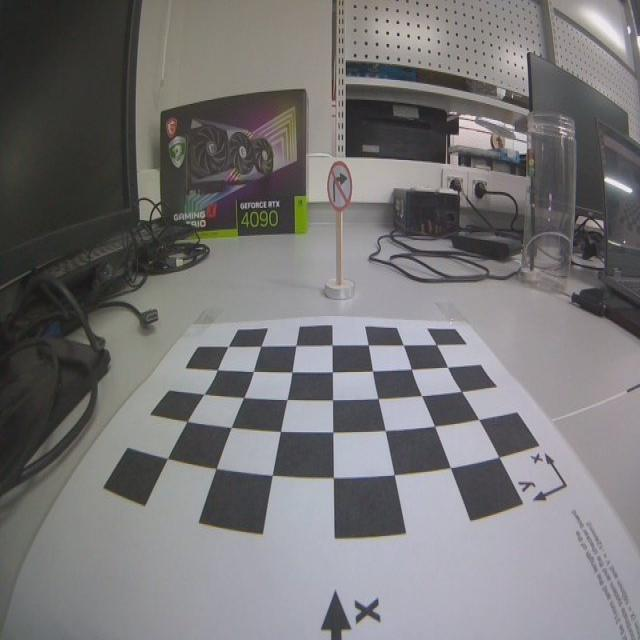Dilarang Belok Kanan: (327, 161, 351, 211)
